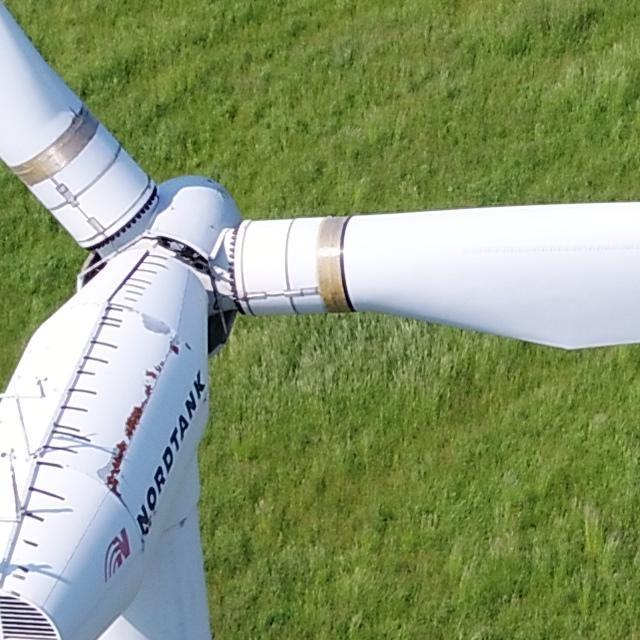damage: (140, 311, 174, 336), (122, 406, 146, 440), (112, 440, 131, 469), (106, 467, 121, 493), (145, 369, 158, 382), (140, 394, 151, 409), (170, 343, 180, 356), (178, 515, 188, 528), (143, 383, 153, 395), (183, 340, 192, 350), (154, 364, 162, 374), (160, 359, 166, 368)
